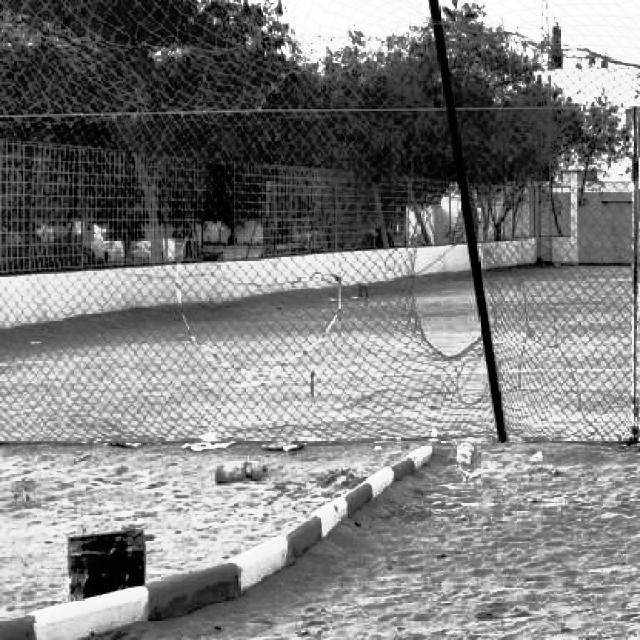anomaly-fence: (406, 176, 535, 349), (448, 358, 508, 421)
